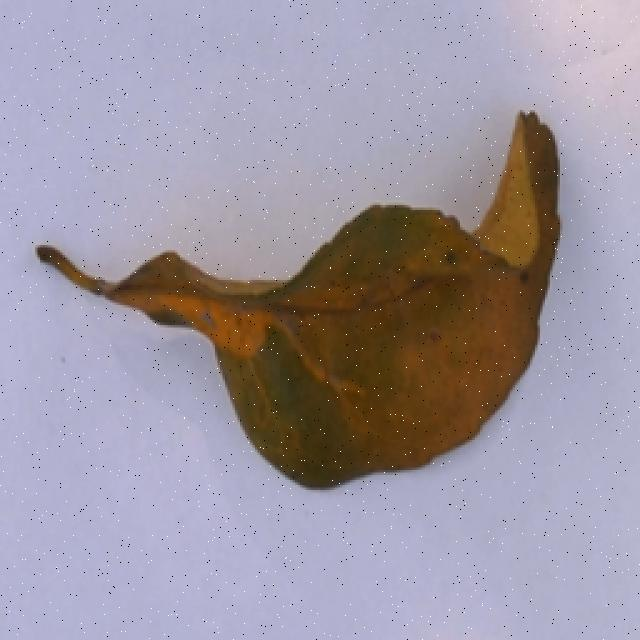greening: (31, 106, 574, 508)
